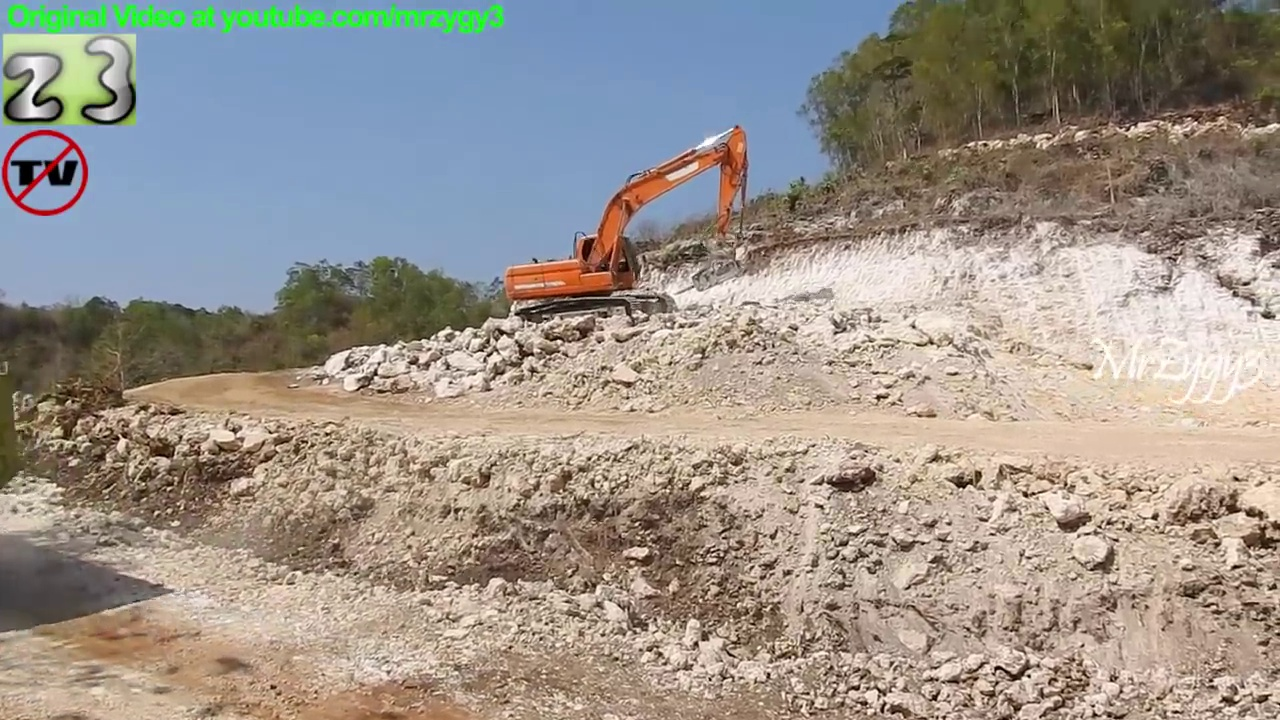excavator breaker: (499, 119, 753, 336)
